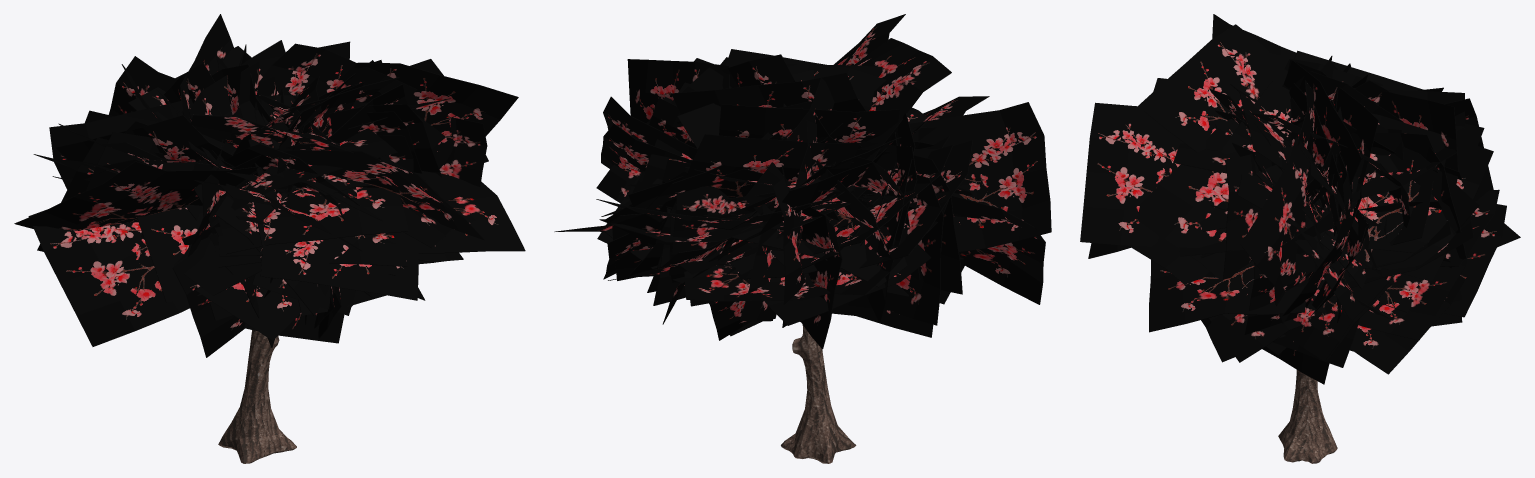
The model's file is arvore 6.fbx.
3 views of the same model, side by side, from view 1: azimuth 30°, elevation 25°; view 2: azimuth 150°, elevation 25°; view 3: azimuth 270°, elevation 25° (orthographic). The views are drawn at different scales.
Visible parts, largest first — view 1: arvore 6; view 2: arvore 6; view 3: arvore 6.
Part boxes in pixels (x1=…): arvore 6: x1=14, y1=14, x2=525, y2=463; arvore 6: x1=554, y1=14, x2=1051, y2=463; arvore 6: x1=1080, y1=14, x2=1520, y2=463.
Bounding box in the file's own units: 1921 × 1557 × 1602.
1 material, 1 textured.
